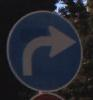turn: (8, 11, 82, 91)
